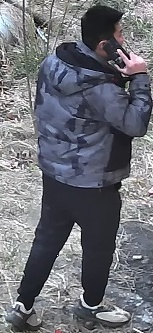phone: (73, 4, 152, 144)
